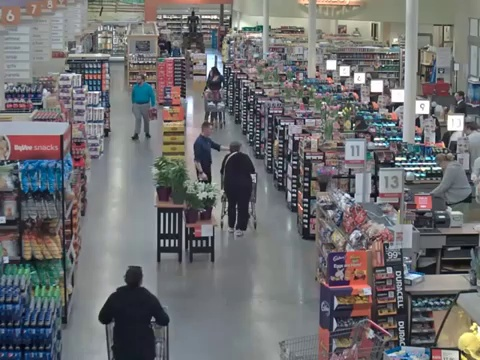face: (205, 124, 213, 135), (136, 74, 143, 84), (454, 92, 462, 100)
